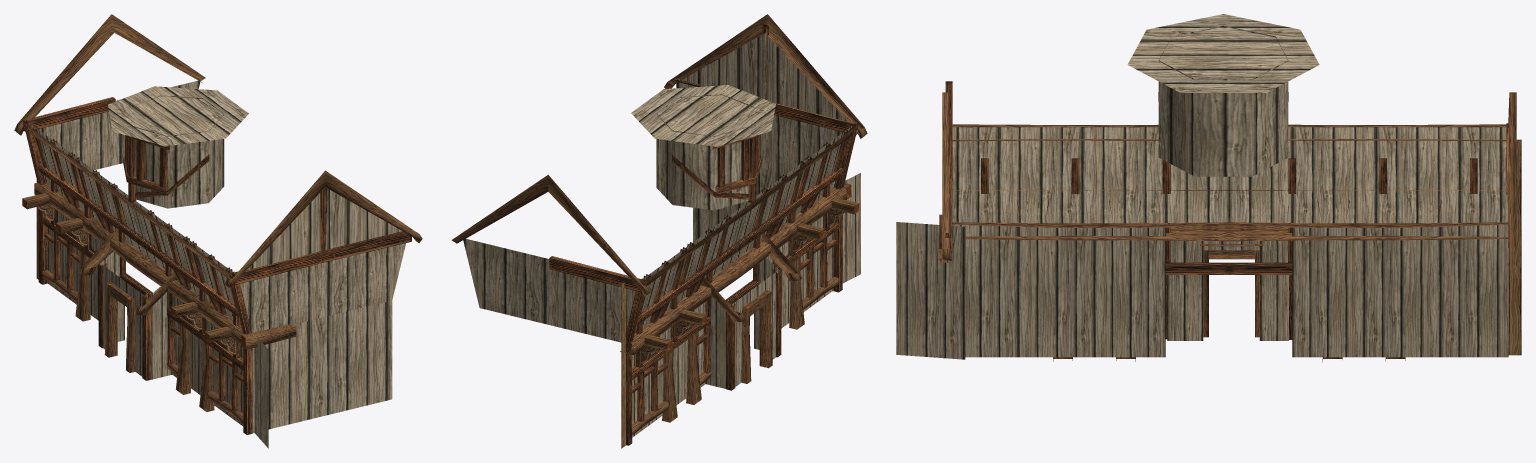
The model's file is LAKETOWN_EXTERIOR_PS_LT_LIBRARY4746__GX.fbx.
The picture shows the model from 3 angles, left to right: view 1: azimuth 30°, elevation 25°; view 2: azimuth 150°, elevation 25°; view 3: azimuth 270°, elevation 25°; orthographic projection. The views are drawn at different scales.
Visible parts, largest first — view 1: LAKETOWN_EXTERIOR_PS_LT_LIBRARY4746__GX; view 2: LAKETOWN_EXTERIOR_PS_LT_LIBRARY4746__GX; view 3: LAKETOWN_EXTERIOR_PS_LT_LIBRARY4746__GX.
Boxes of the visible parts, x1=… form: LAKETOWN_EXTERIOR_PS_LT_LIBRARY4746__GX: x1=14, y1=14, x2=422, y2=448; LAKETOWN_EXTERIOR_PS_LT_LIBRARY4746__GX: x1=451, y1=14, x2=867, y2=448; LAKETOWN_EXTERIOR_PS_LT_LIBRARY4746__GX: x1=896, y1=14, x2=1521, y2=362.
Bounding box in the file's own units: 80186 × 93101 × 155162.
Materials: 10 (10 with a texture image).
